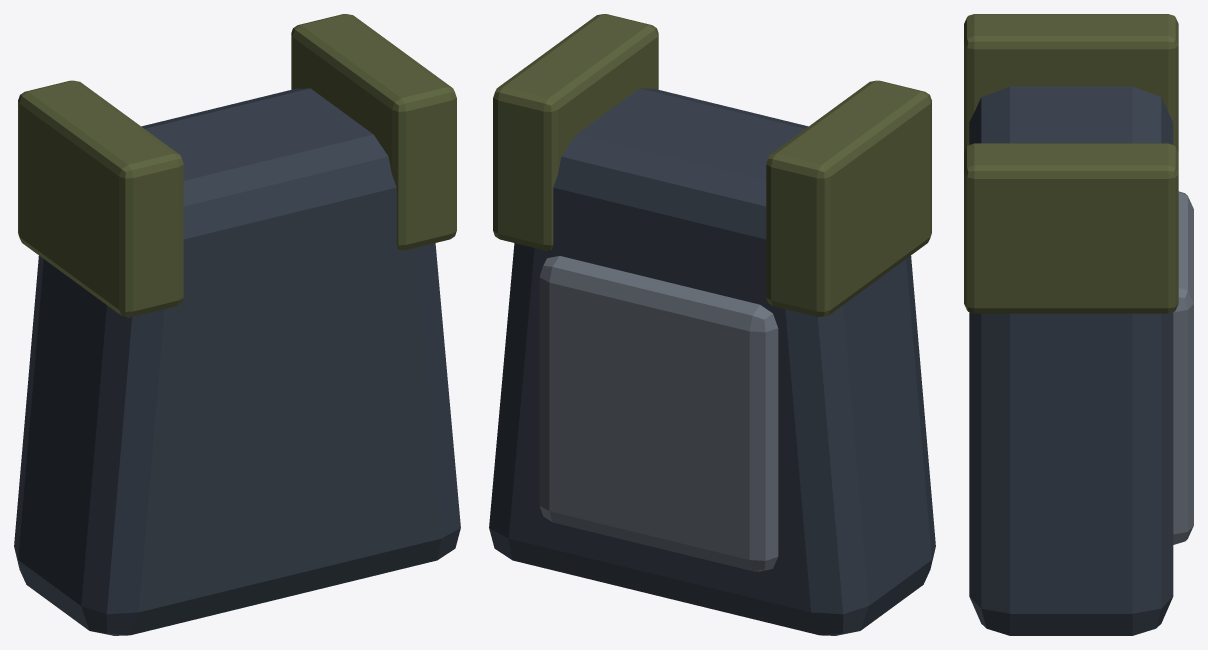
File: item_armour.glb
The picture shows the model from 3 angles, left to right: view 1: azimuth 30°, elevation 25°; view 2: azimuth 150°, elevation 25°; view 3: azimuth 270°, elevation 25°; orthographic projection. The views are drawn at different scales.
Visible parts, largest first — view 1: Vest, Strap_L, Strap_R; view 2: Vest, Plate, Strap_L, Strap_R; view 3: Vest, Strap_R, Strap_L, Plate.
Part boxes in pixels (<box>): Vest: <box>14,88,460,635</box>; Strap_L: <box>18,80,183,317</box>; Strap_R: <box>291,14,456,250</box>; Vest: <box>489,88,935,635</box>; Plate: <box>539,256,778,571</box>; Strap_L: <box>766,80,931,317</box>; Strap_R: <box>493,14,658,250</box>; Vest: <box>969,86,1173,635</box>; Strap_R: <box>964,143,1178,313</box>; Strap_L: <box>964,14,1178,152</box>; Plate: <box>1173,191,1193,544</box>.
Size of what is drawn, in the model's own units: 0.4127 by 0.51 by 0.225.
